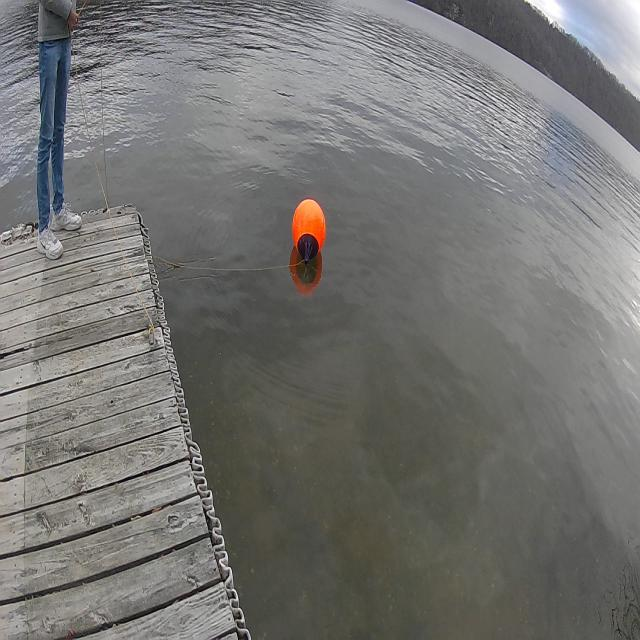Buoy: (288, 193, 329, 281)
